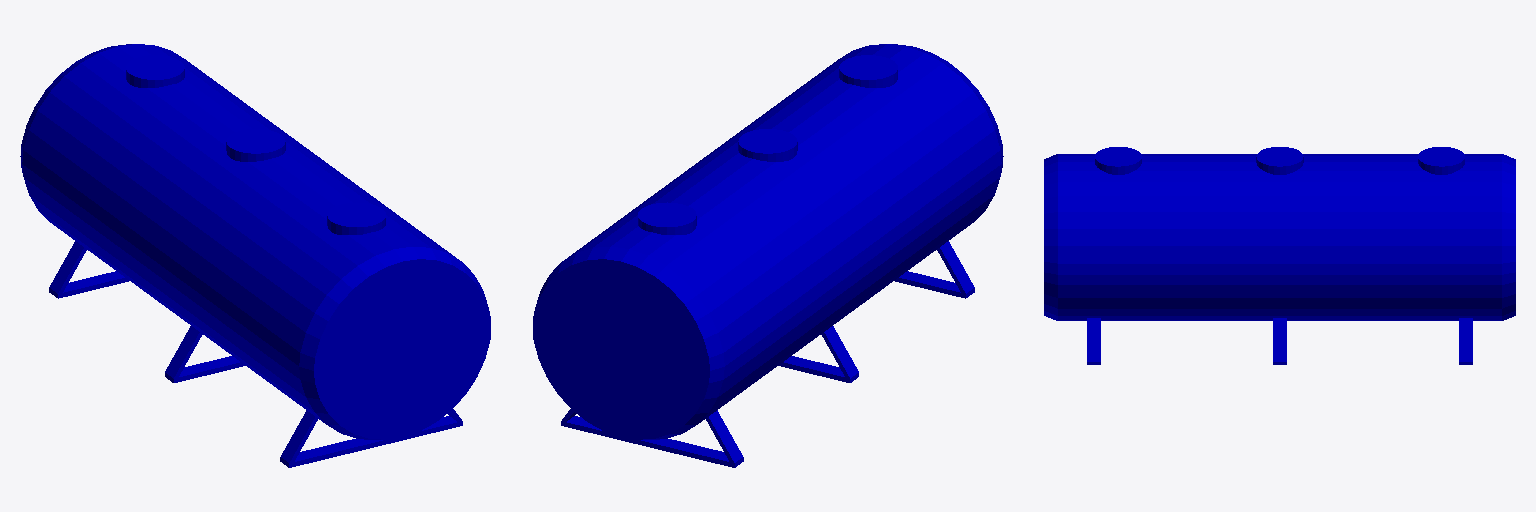
robot.urdf — plastic_water_tank:
<?xml version="1.0"?>

<robot name="plastic_water_tank">

	 
	<link name="water_tank">
		<inertial>
			<mass value="1.1" />
			<origin xyz="0 0 0" />
			<inertia  ixx="1" ixy="0" ixz="0" iyy="1" iyz="0" izz="1" />
		</inertial>
		<visual>
			<origin xyz="0 0 0" rpy="1.57079632679489661923 0 0" />
			<geometry>
				<mesh filename="package://husky_atom/meshes/Gtank.dae" />
			</geometry>
            <material name="blue">
                <color rgba="0.0 0.0 0.8 1.0"/>
            </material>
		</visual>
		<collision>
			<origin xyz="0 0 0" rpy="1.57079632679489661923 0 0" />
			<geometry>
                <mesh filename="package://husky_atom/meshes/Gtank.dae" />
            </geometry>
		</collision>
	</link>

    <!--<joint name="wt_to_tpl" type="fixed">
      <origin xyz="$(arg laser_xyz)" rpy="0 0 0" />
      <parent link="top_plate_link" />
      <child link="water_tank" />
    </joint> -->


</robot>  

--- What the picture shows (computed from the rendered views, not written in the file) ---
Views: 3 orthographic renders of the robot side by side, from view 1: azimuth 30°, elevation 25°; view 2: azimuth 150°, elevation 25°; view 3: azimuth 270°, elevation 25°.
Model plastic_water_tank with 1 links and 0 joints (none), rooted at water_tank, posed every joint at zero.
Links seen in each view (by area): view 1: water_tank; view 2: water_tank; view 3: water_tank.
Boxes of the visible links, bbox=[...] form: water_tank: bbox=[20, 44, 490, 467]; water_tank: bbox=[533, 44, 1003, 467]; water_tank: bbox=[1044, 147, 1515, 364].
Size in the robot's own frame: 0.2979 by 0.7947 by 0.3254 metres.
1 mesh visuals loaded from 1 distinct referenced files (1 Collada DAE).